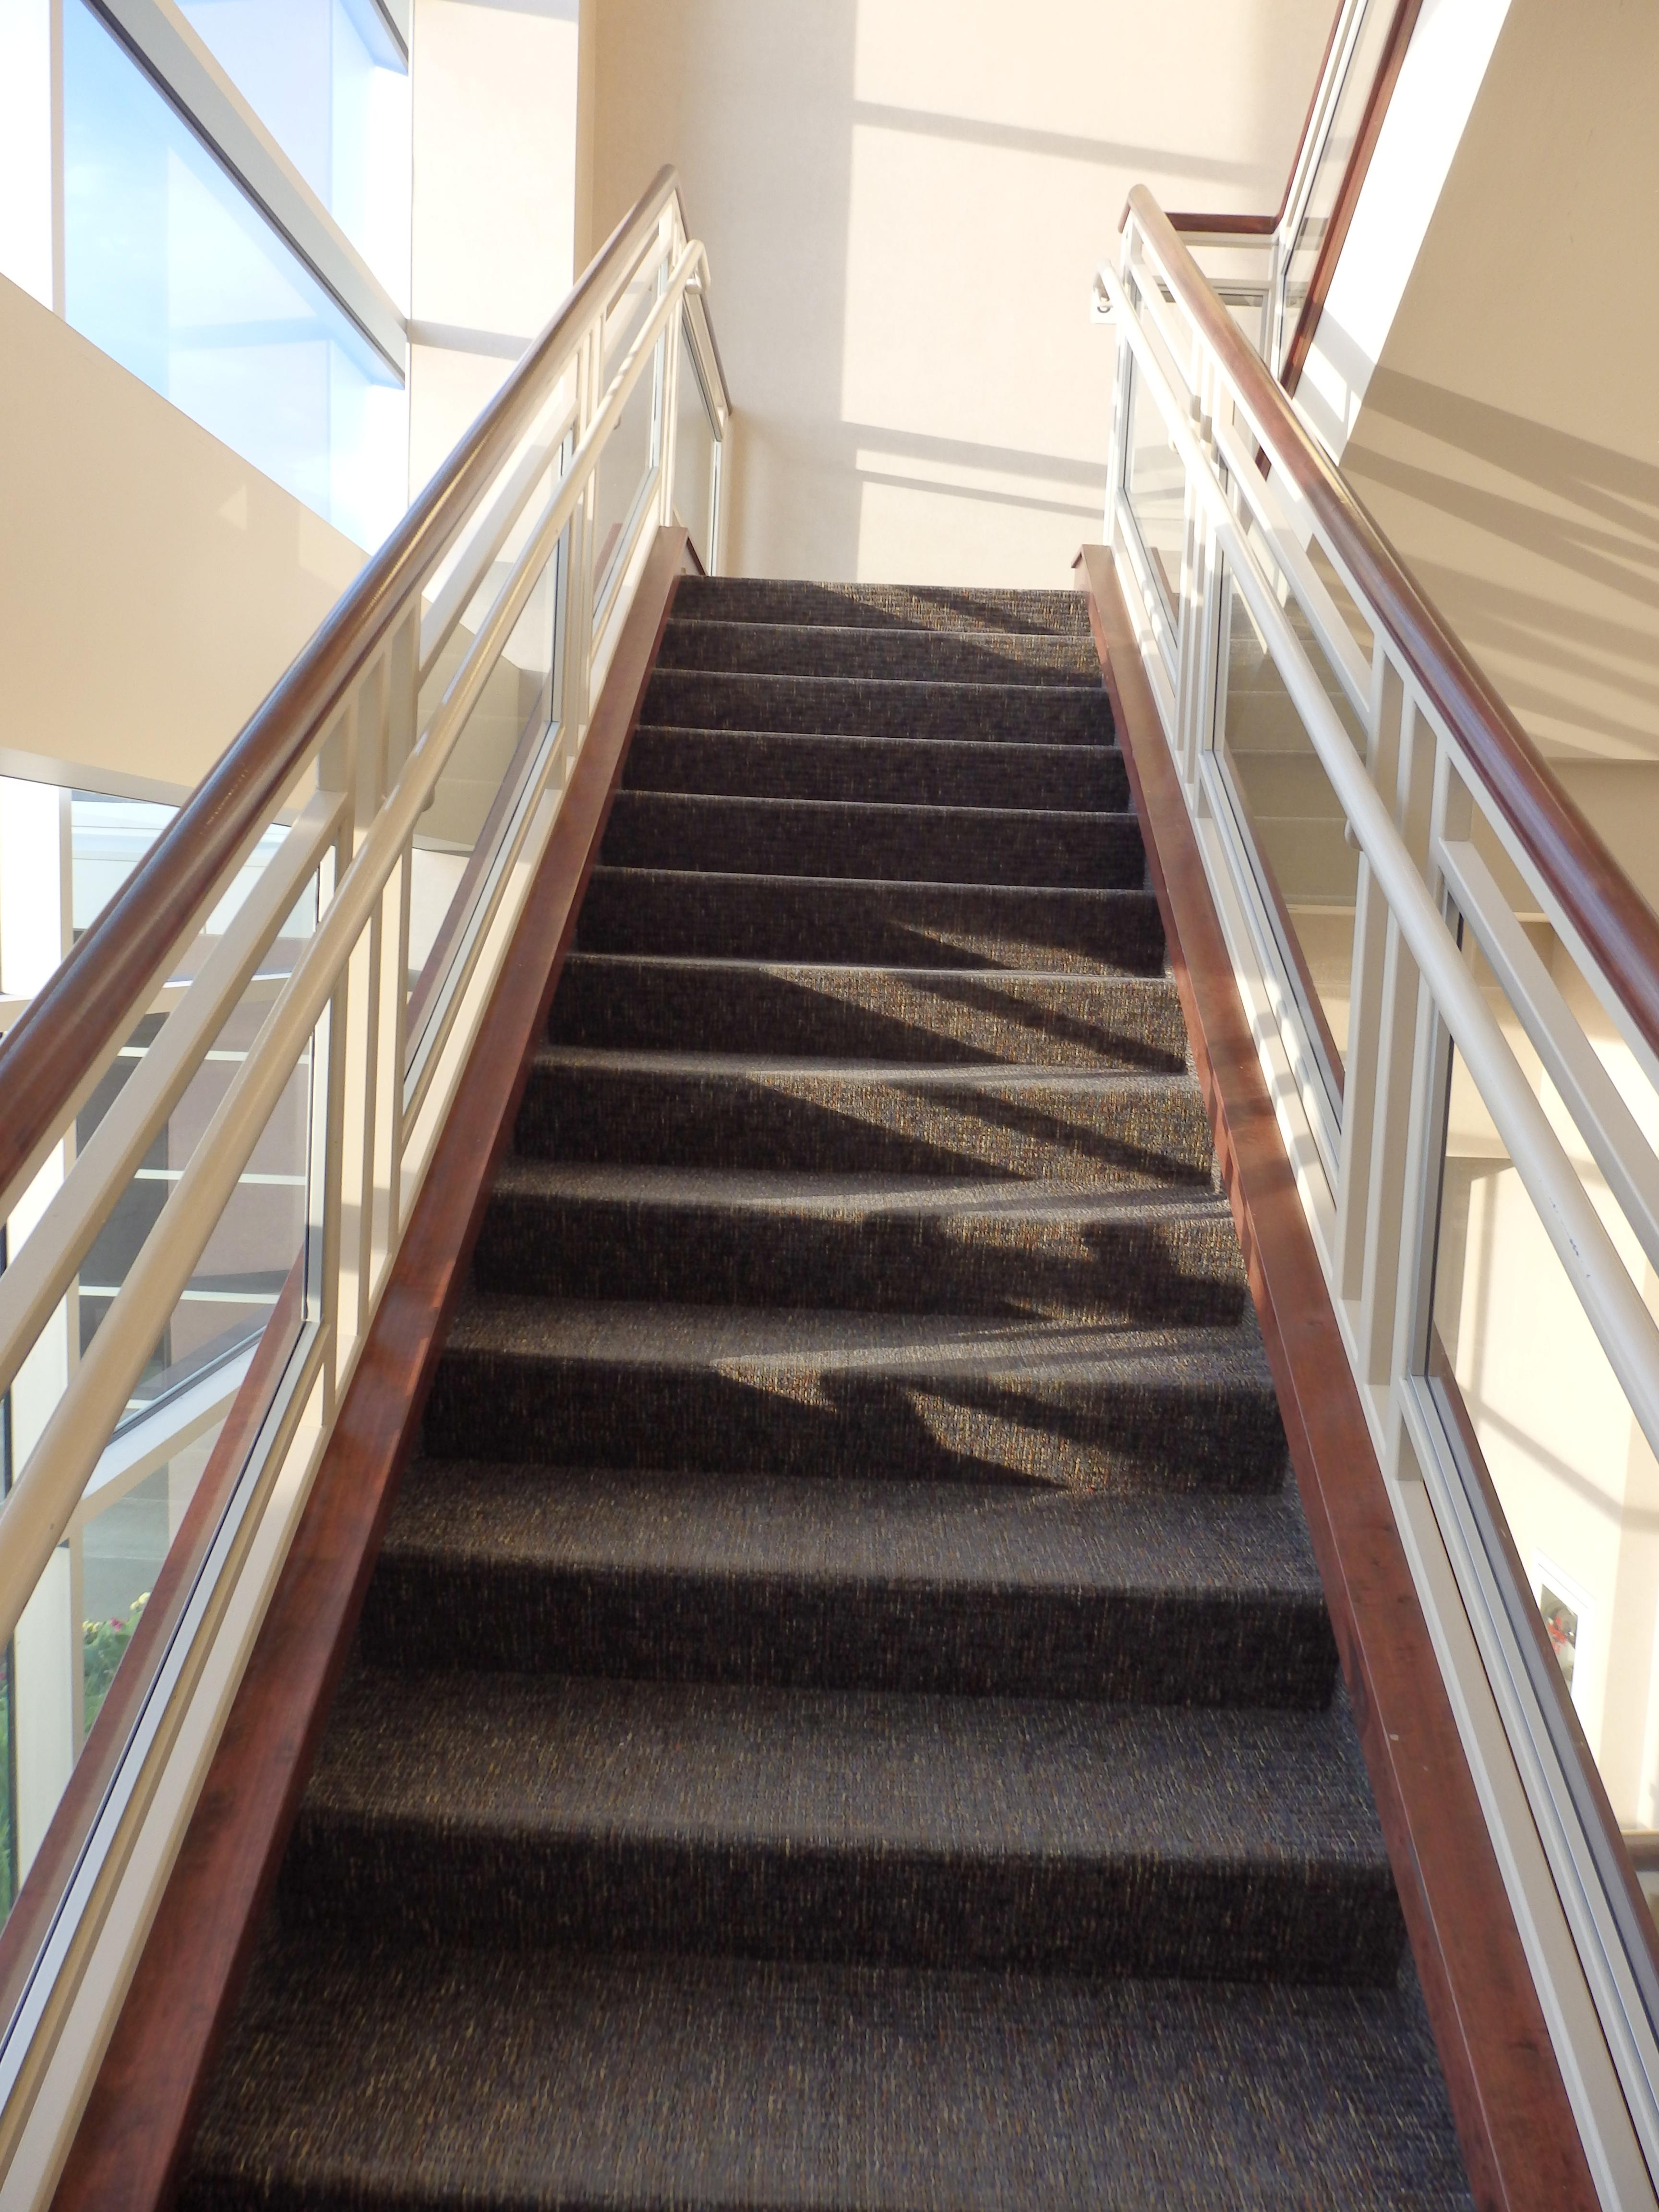stairs_up: (361, 514, 1452, 1968)
